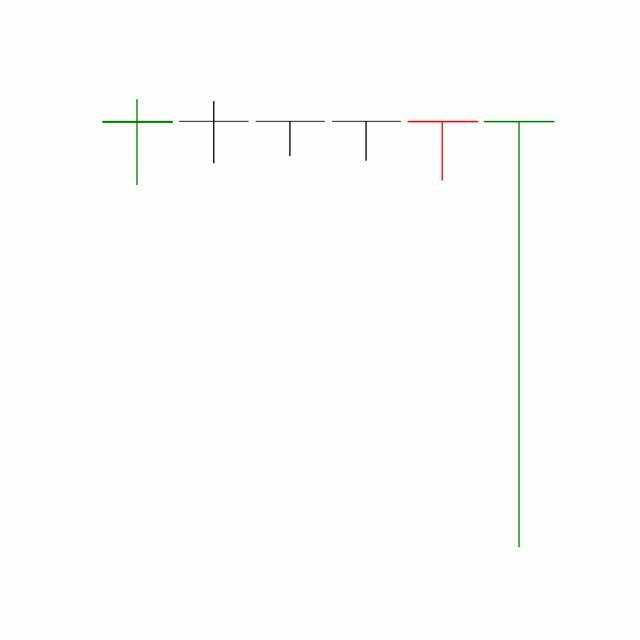Dragonfly Doji: (404, 120, 482, 182)
